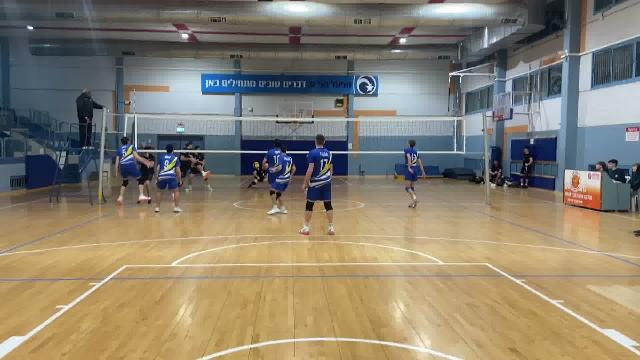ball: (249, 159, 261, 170)
